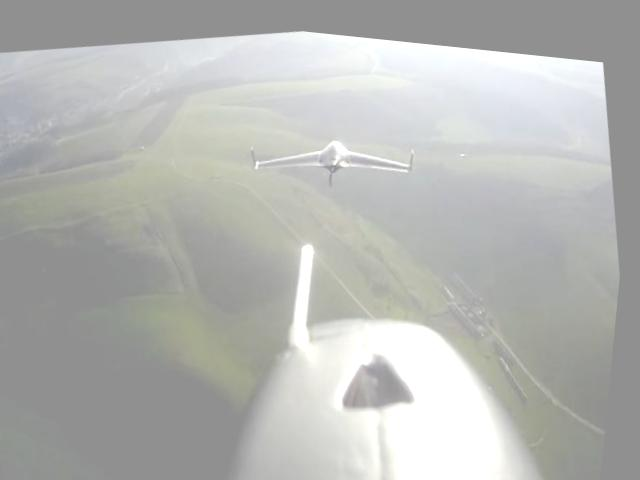iha: (245, 103, 426, 192)
